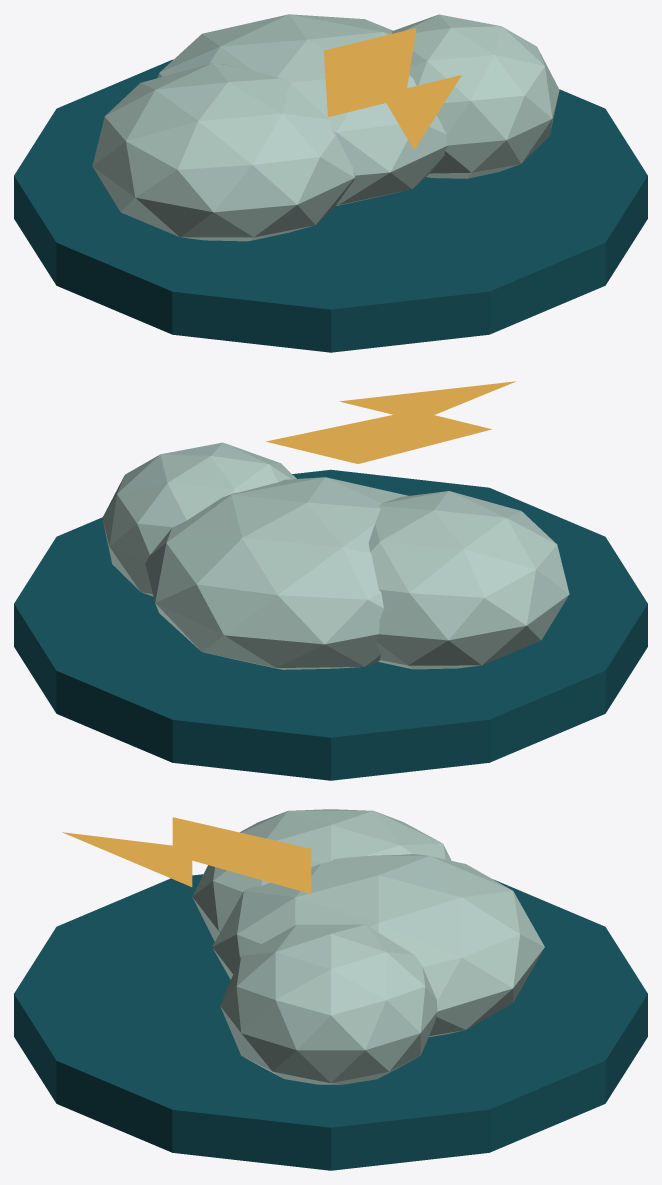
The model's file is Icon_Storm.fbx.
3 renders of one model, top to bottom at view 1: azimuth 30°, elevation 25°; view 2: azimuth 150°, elevation 25°; view 3: azimuth 270°, elevation 25°, orthographic.
Visible parts, largest first — view 1: Icon_Storm_Static; view 2: Icon_Storm_Static; view 3: Icon_Storm_Static.
Part boxes in pixels (x1,y1,x2,y2): Icon_Storm_Static: [14, 14, 647, 352]; Icon_Storm_Static: [14, 381, 647, 780]; Icon_Storm_Static: [14, 809, 647, 1170].
Size of the model in its own units: 1.6 by 0.5 by 1.6.
1 material, 1 textured.
